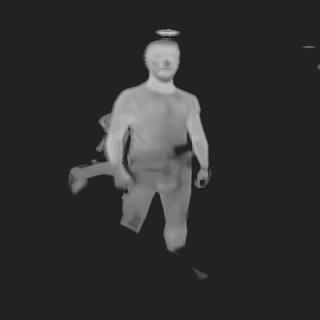Gun: (171, 141, 193, 157)
